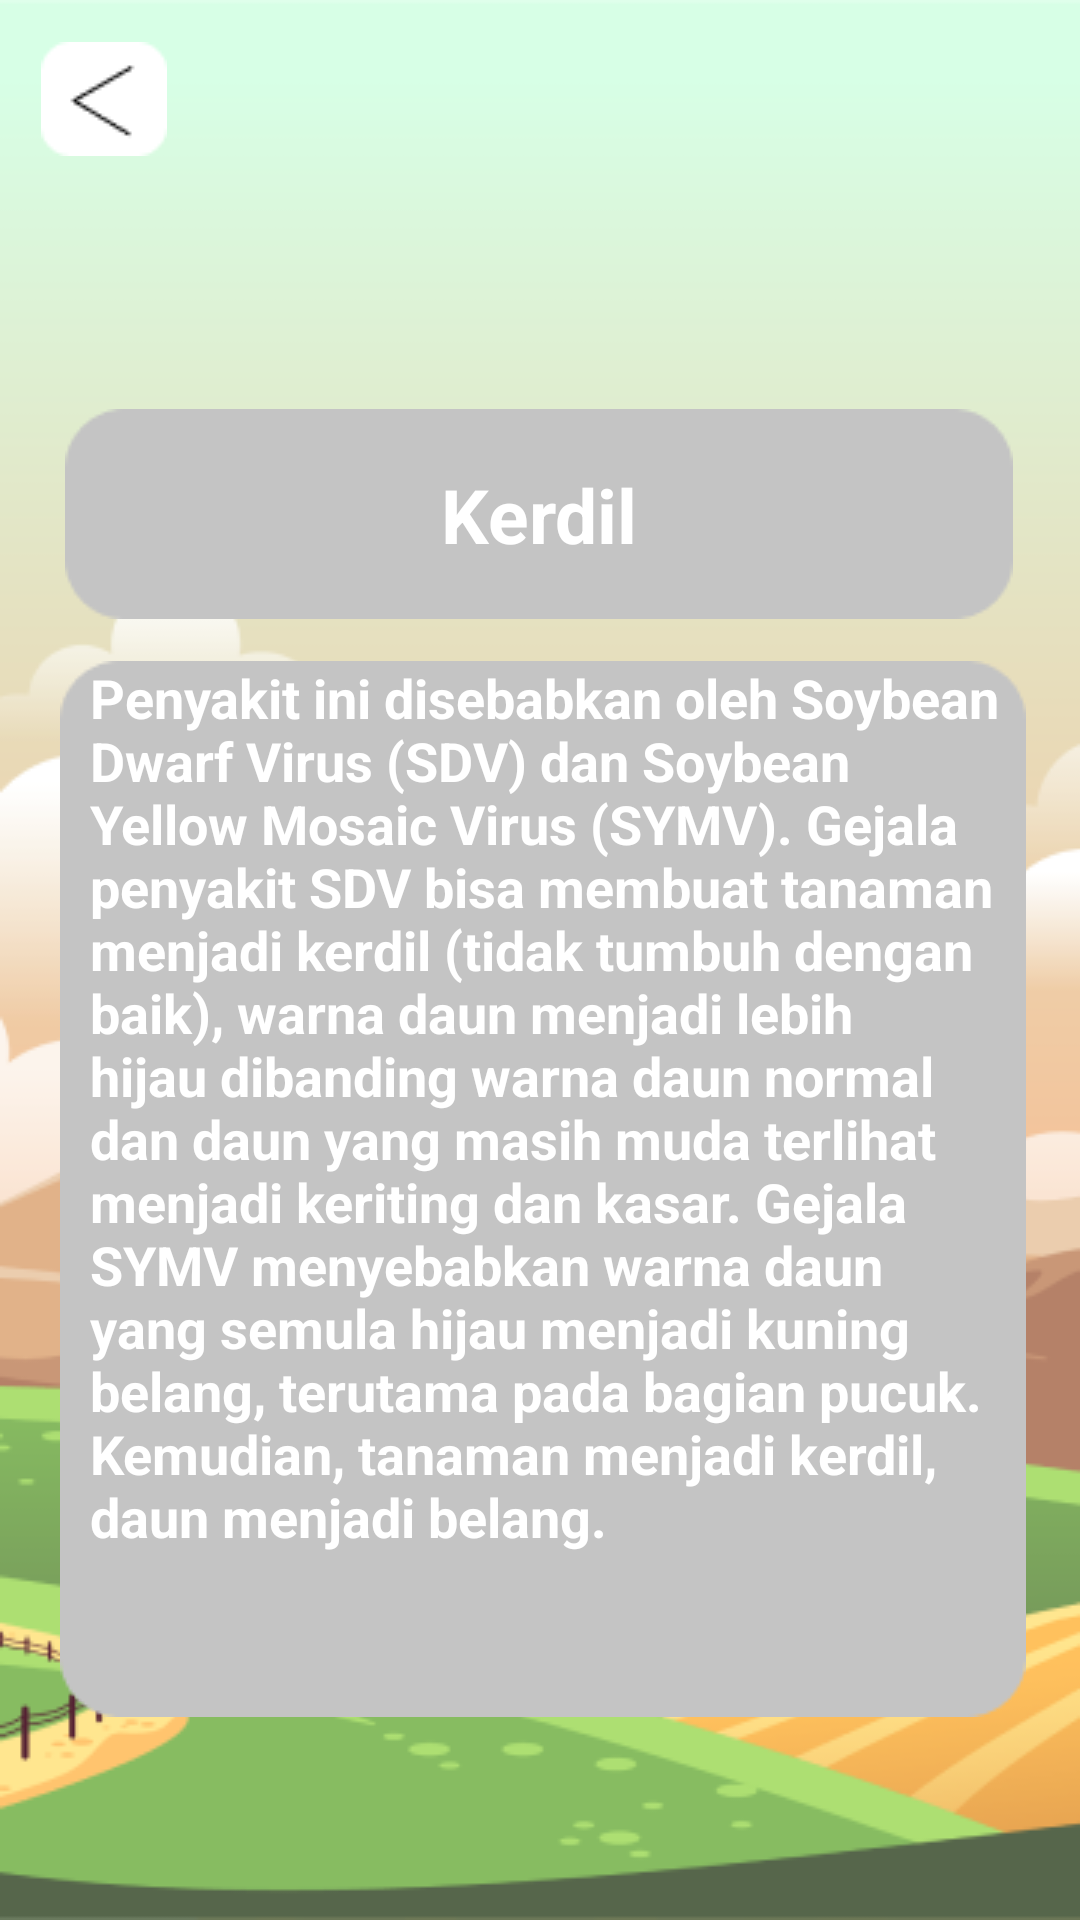

Icons on this 1080 × 1920 Android screen, each with the point to tap as [x,y]:
back: [104,99]
